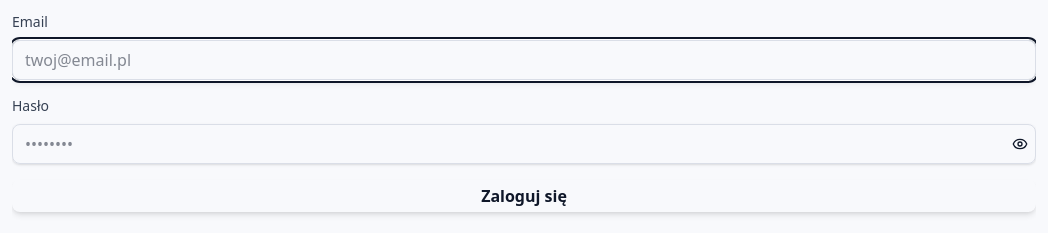
Test: LoginForm › Password Visibility Toggle › should change toggle button aria-label when password visible
This screenshot has width=1048, height=233.
Click the button named "Pokaż hasło" at (1020, 144), box [1004, 124, 1036, 164]
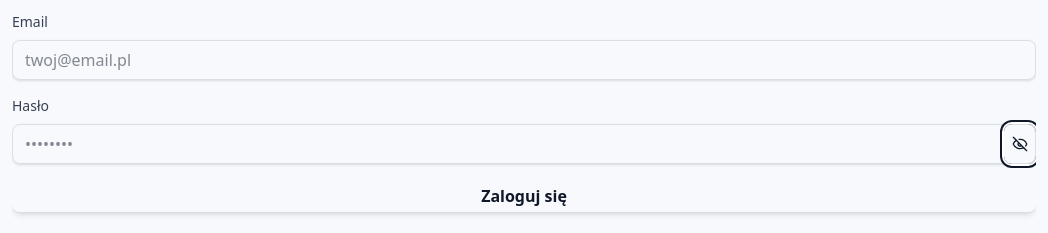
expect the button named "Ukryj hasło" is shown: met, box [1004, 124, 1036, 164]
